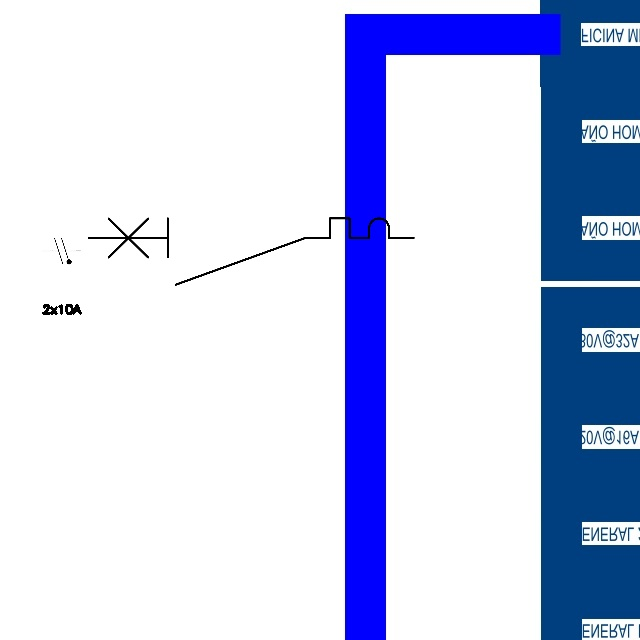interruptor_termomagnetico: (80, 210, 422, 293)
